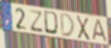2: (15, 8, 28, 32)
A: (90, 19, 108, 44)
D: (44, 10, 61, 37), (60, 13, 75, 38)
X: (76, 15, 91, 42)
Z: (30, 9, 44, 34)
